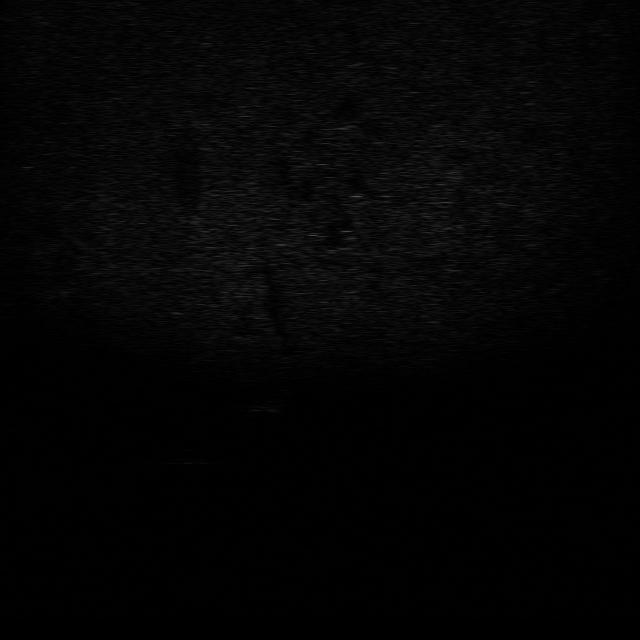ball: (166, 444, 206, 469)
human body: (245, 378, 294, 417)
